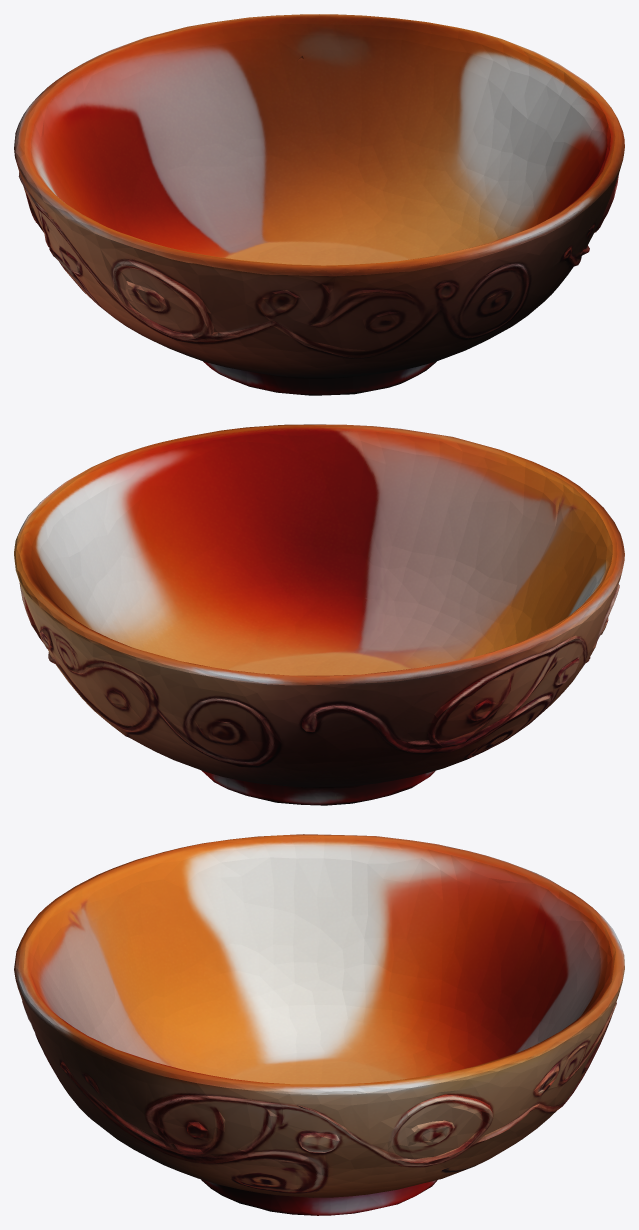
File: ceramic-dessert-bowl-3d.jpeg.glb
3 views of the same model, one above another, from view 1: azimuth 30°, elevation 25°; view 2: azimuth 150°, elevation 25°; view 3: azimuth 270°, elevation 25° (orthographic).
Visible parts, largest first — view 1: world; view 2: world; view 3: world.
Part boxes in pixels (x1=…): world: x1=14, y1=14, x2=624, y2=395; world: x1=14, y1=424, x2=624, y2=805; world: x1=14, y1=834, x2=624, y2=1215.
Size of the model in its own units: 0.9988 by 0.3679 by 1.
1 material, 1 textured.
